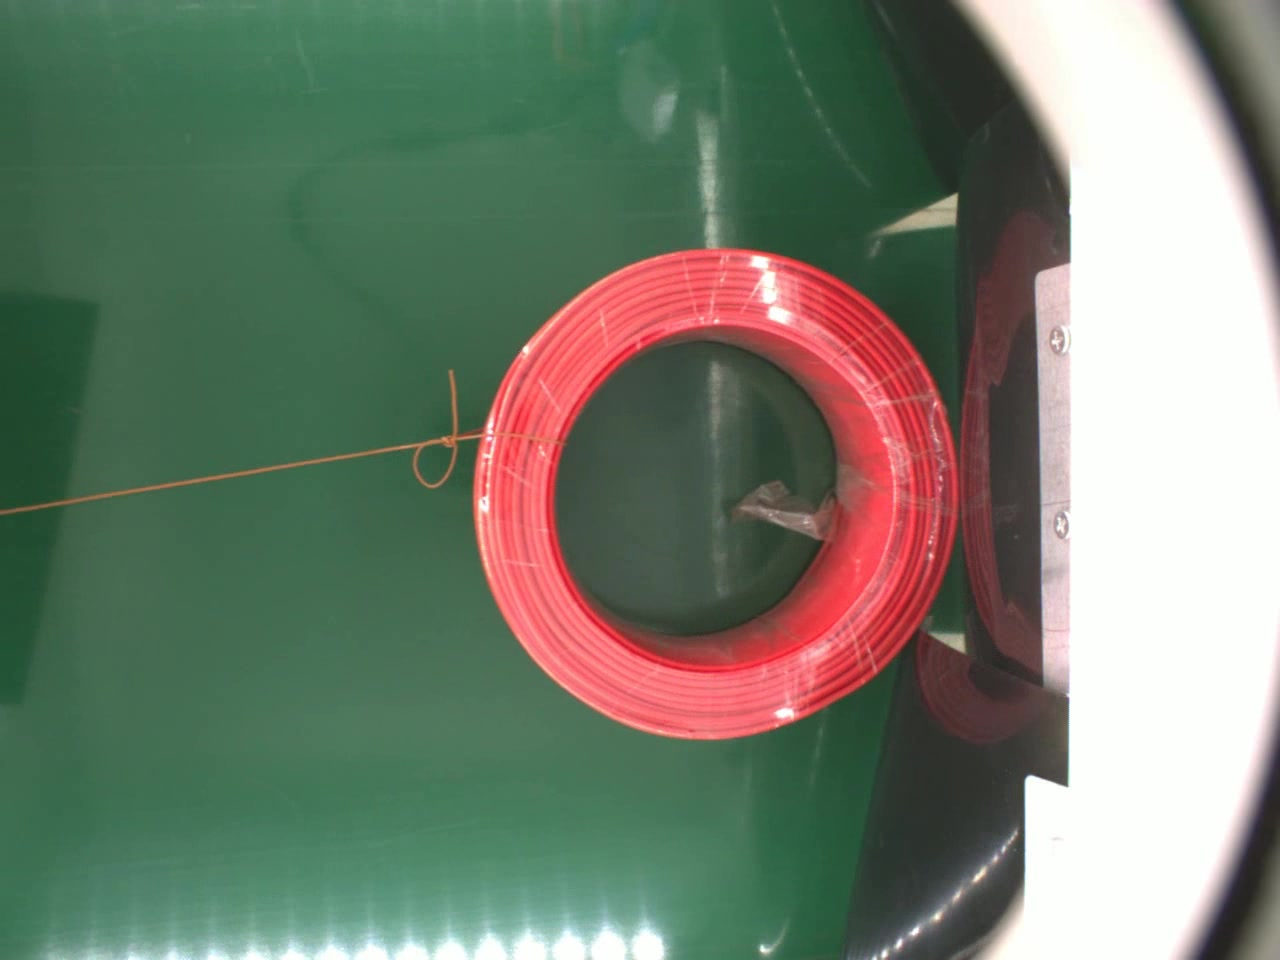red: (462, 239, 966, 744)
